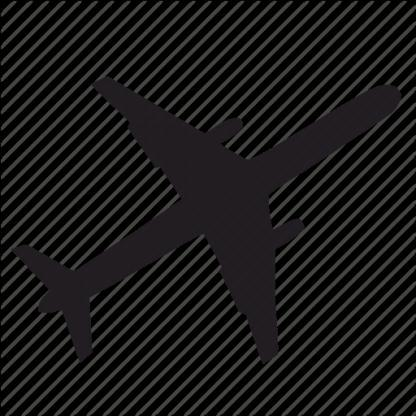CIV_Plane: (12, 53, 404, 384)
